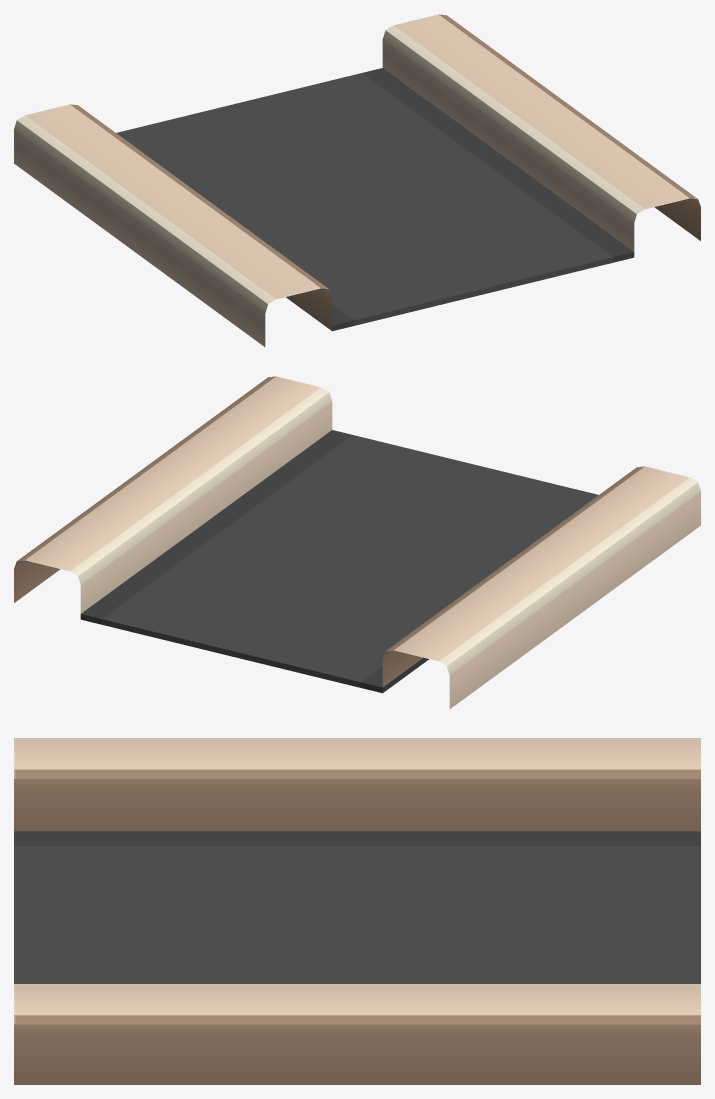
File: Road.fbx
The picture shows the model from 3 angles, top to bottom: view 1: azimuth 30°, elevation 25°; view 2: azimuth 150°, elevation 25°; view 3: azimuth 270°, elevation 25°; orthographic projection. The views are drawn at different scales.
Visible parts, largest first — view 1: Road_00, Road_01, Road_02; view 2: Road_00, Road_01, Road_02; view 3: Road_00, Road_02, Road_01.
Part boxes in pixels (<box>): Road_00: <box>116,68,634,331</box>; Road_01: <box>14,104,332,346</box>; Road_02: <box>382,14,700,251</box>; Road_00: <box>80,430,598,693</box>; Road_01: <box>382,466,700,708</box>; Road_02: <box>14,376,332,613</box>; Road_00: <box>14,831,700,983</box>; Road_02: <box>14,984,700,1084</box>; Road_01: <box>14,738,700,831</box>.
Size of the model in its own units: 400 by 40 by 400.
